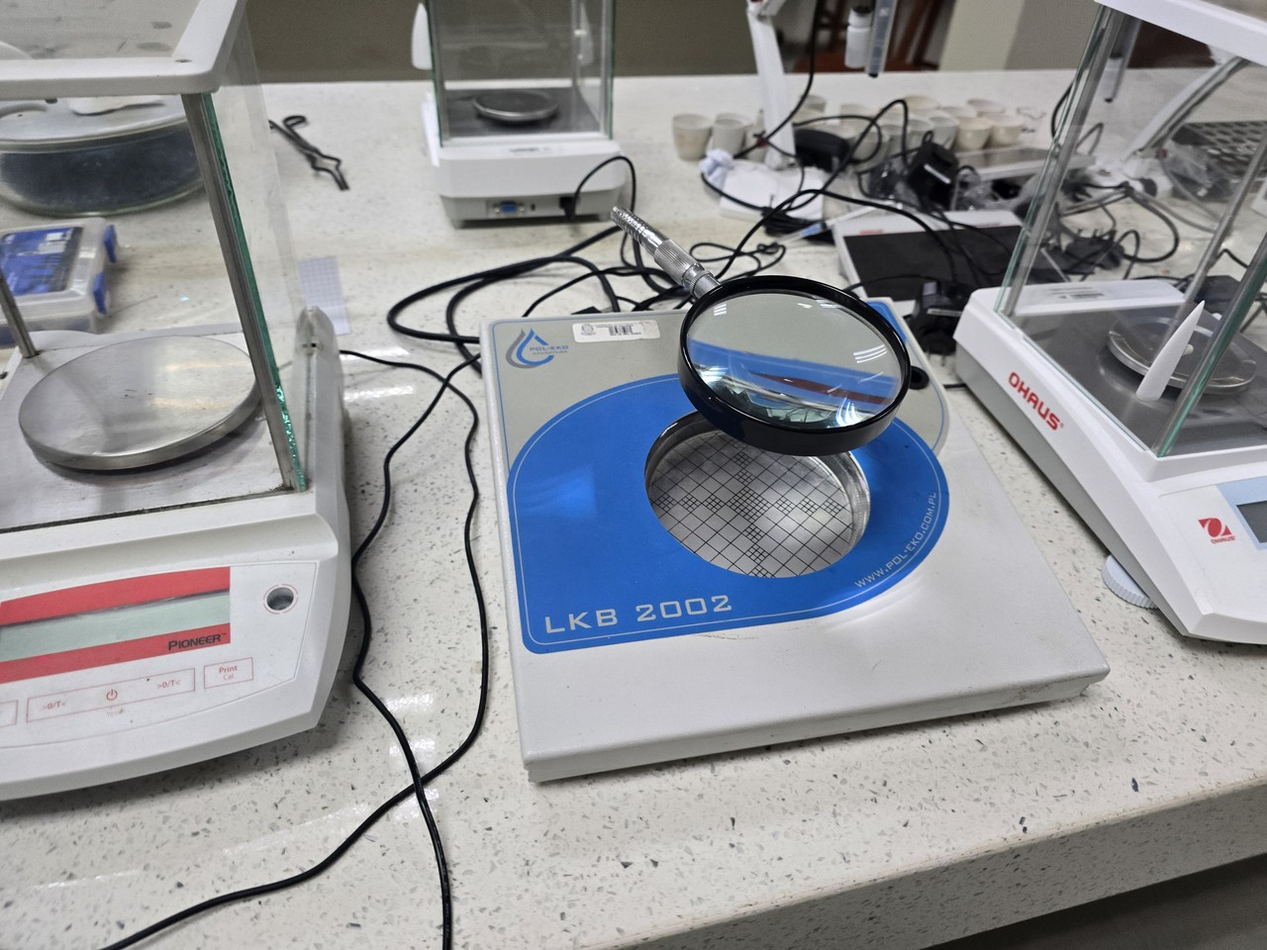contador_de_colonias: (439, 228, 1131, 786)
